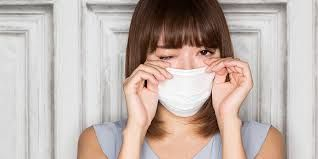with-mask: (130, 3, 237, 128)
